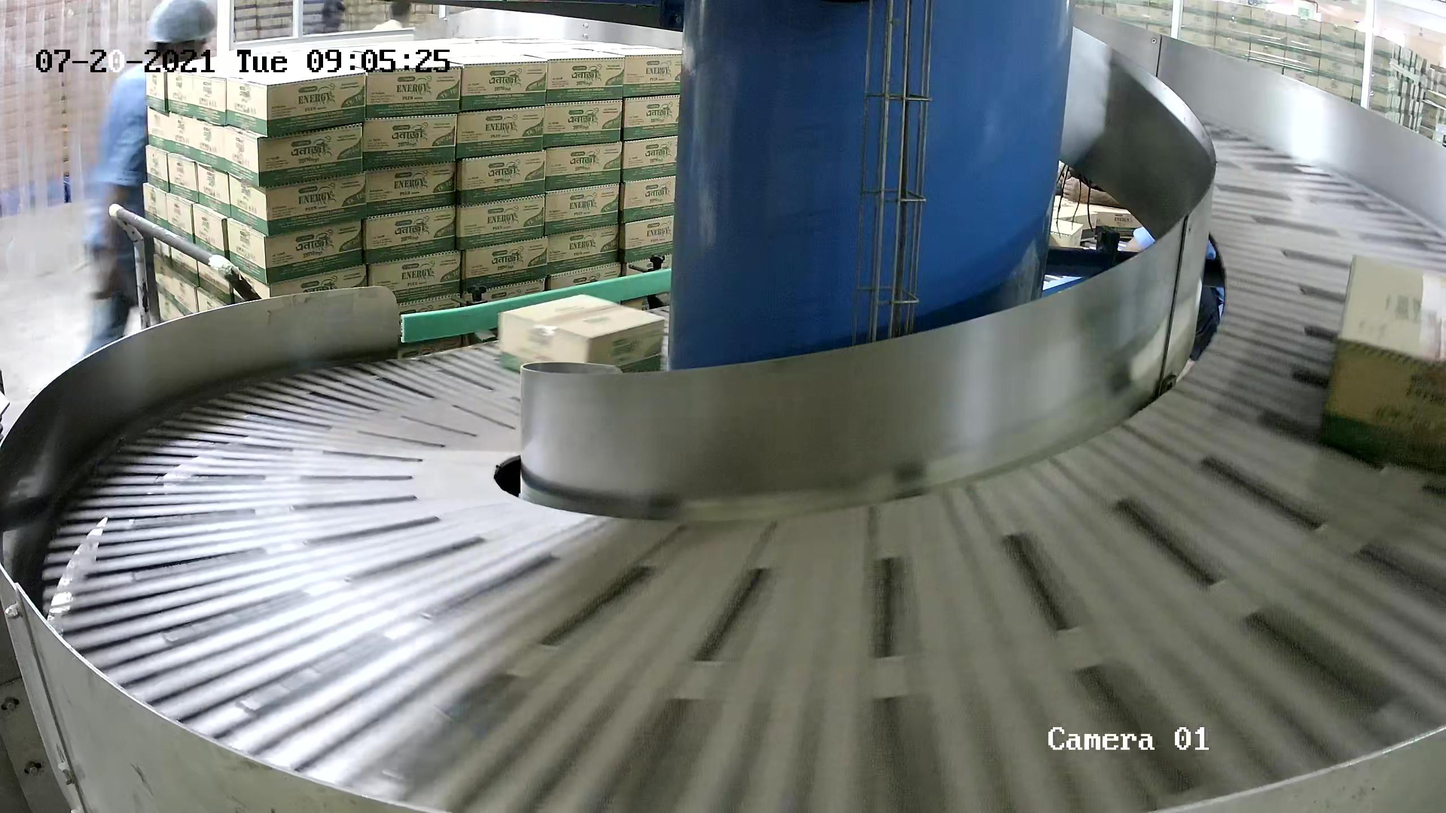Box: (1317, 251, 1446, 475), (499, 292, 664, 385)
